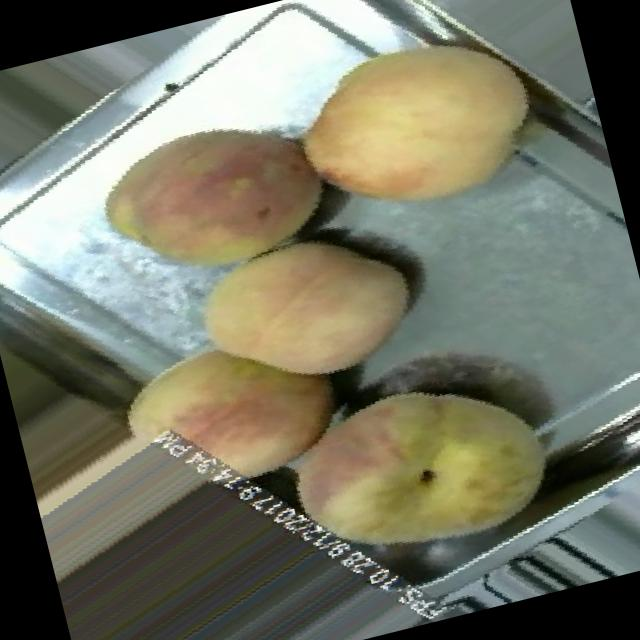Fruit: (240, 323, 594, 619), (253, 0, 581, 267), (80, 292, 374, 538), (158, 193, 452, 432), (61, 69, 357, 298)
